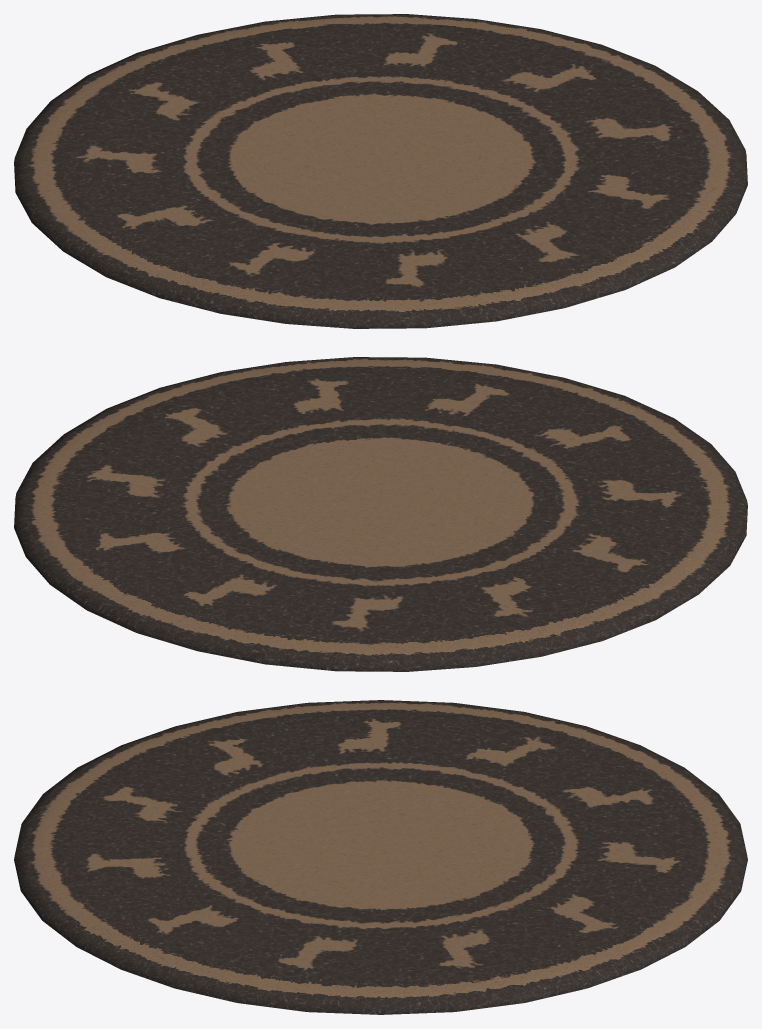
Rendered from rug.gltf.
3 renders of one model, top to bottom at view 1: azimuth 30°, elevation 25°; view 2: azimuth 150°, elevation 25°; view 3: azimuth 270°, elevation 25°, orthographic.
Visible parts, largest first — view 1: Rug.001; view 2: Rug.001; view 3: Rug.001.
Boxes of the visible parts, x1,y1,x2,y2 form: Rug.001: [14, 14, 747, 328]; Rug.001: [14, 357, 747, 671]; Rug.001: [14, 700, 747, 1014].
Bounding box in the file's own units: 0.7592 × 0.017 × 0.7592.
1 material, 1 textured.
